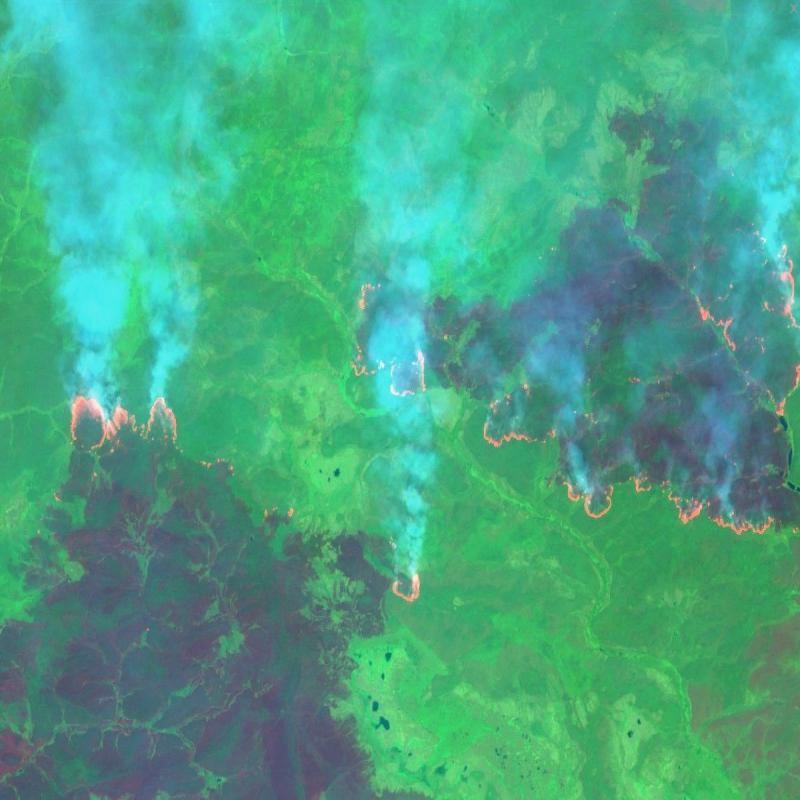fire: (336, 226, 800, 612), (50, 369, 196, 477)
